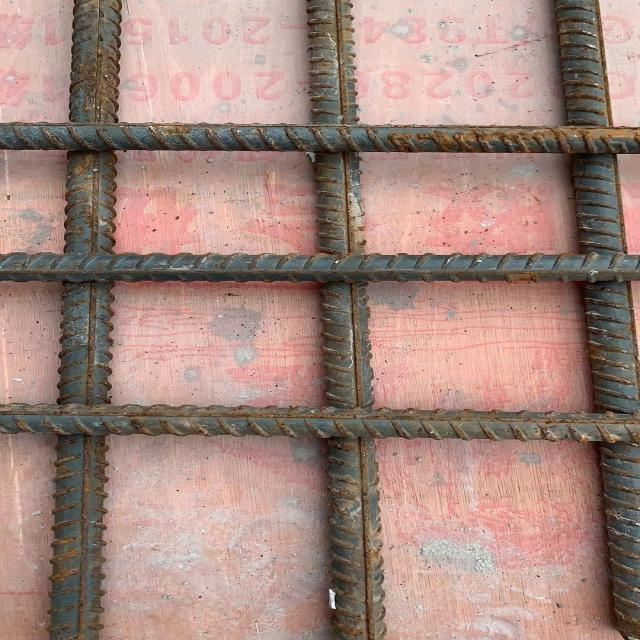ribbed bar: (551, 1, 639, 640), (42, 0, 127, 639), (306, 0, 388, 639), (0, 402, 639, 447), (0, 120, 639, 156), (0, 252, 639, 284)
